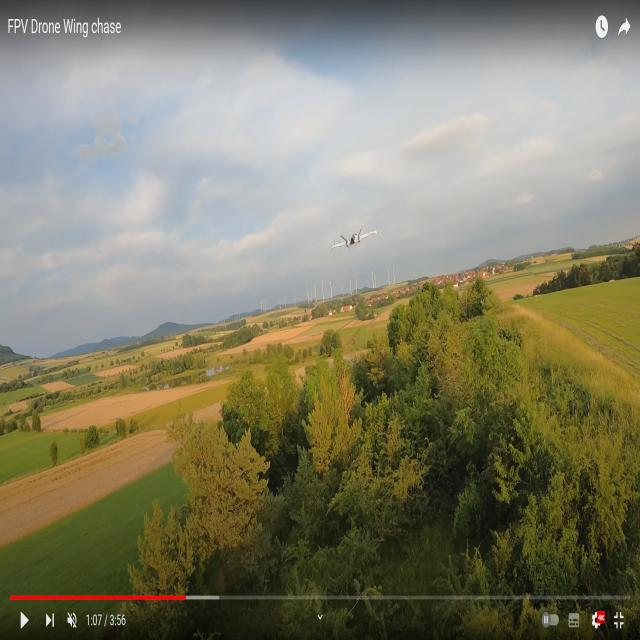iha: (334, 228, 374, 253)
